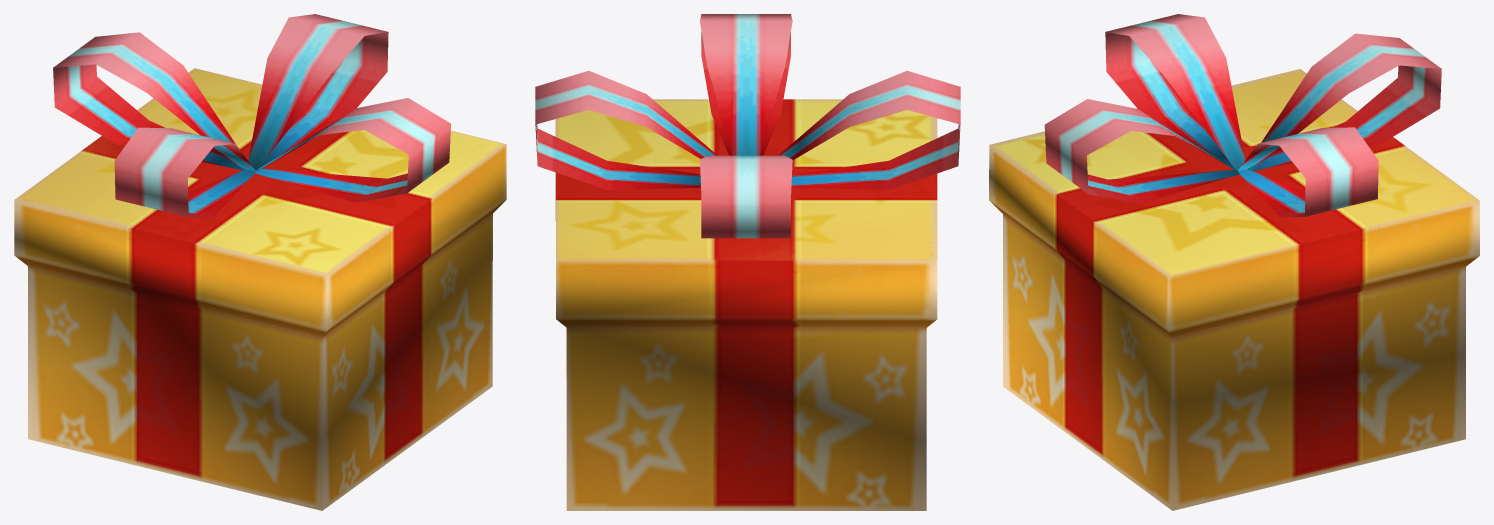
The model's file is dj_libao.fbx.
The picture shows the model from 3 angles, left to right: view 1: azimuth 30°, elevation 25°; view 2: azimuth 150°, elevation 25°; view 3: azimuth 270°, elevation 25°; orthographic projection. The views are drawn at different scales.
Visible parts, largest first — view 1: dj_libao; view 2: dj_libao; view 3: dj_libao.
Boxes of the visible parts, x1,y1,x2,y2 form: dj_libao: (14,14,506,510); dj_libao: (535,14,960,510); dj_libao: (989,14,1479,510).
Bounding box in the file's own units: 309 × 228 × 308.
